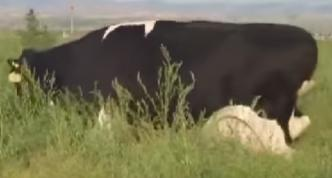cow: (6, 20, 319, 146)
